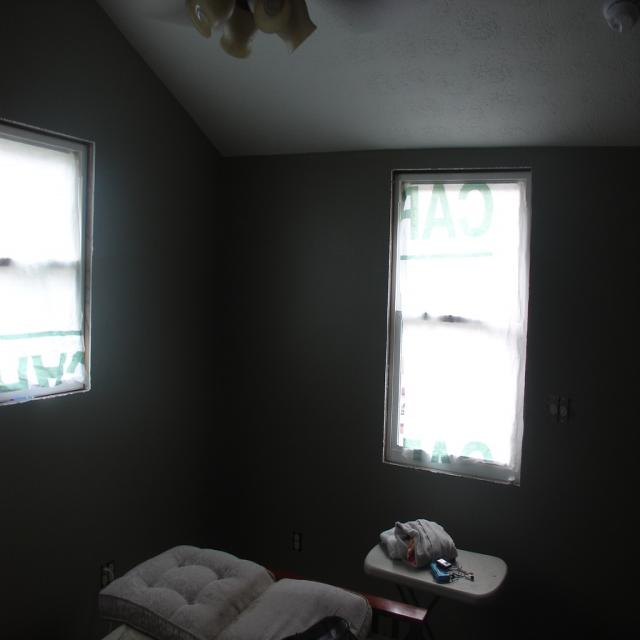Bulb: (125, 0, 316, 58)
